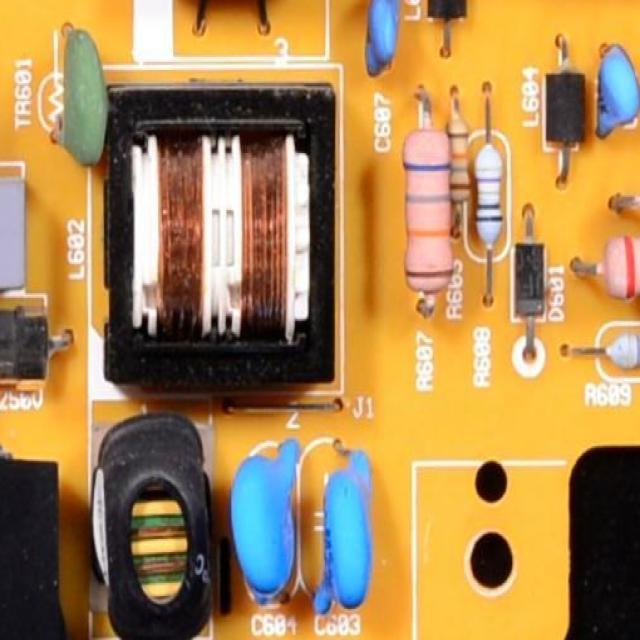capacitor: (237, 443, 311, 612), (319, 448, 387, 599), (592, 25, 640, 152), (0, 166, 43, 290), (362, 0, 412, 65)
resistor: (404, 117, 448, 312), (434, 127, 492, 273), (472, 138, 527, 274), (588, 227, 640, 309), (601, 318, 640, 382)
